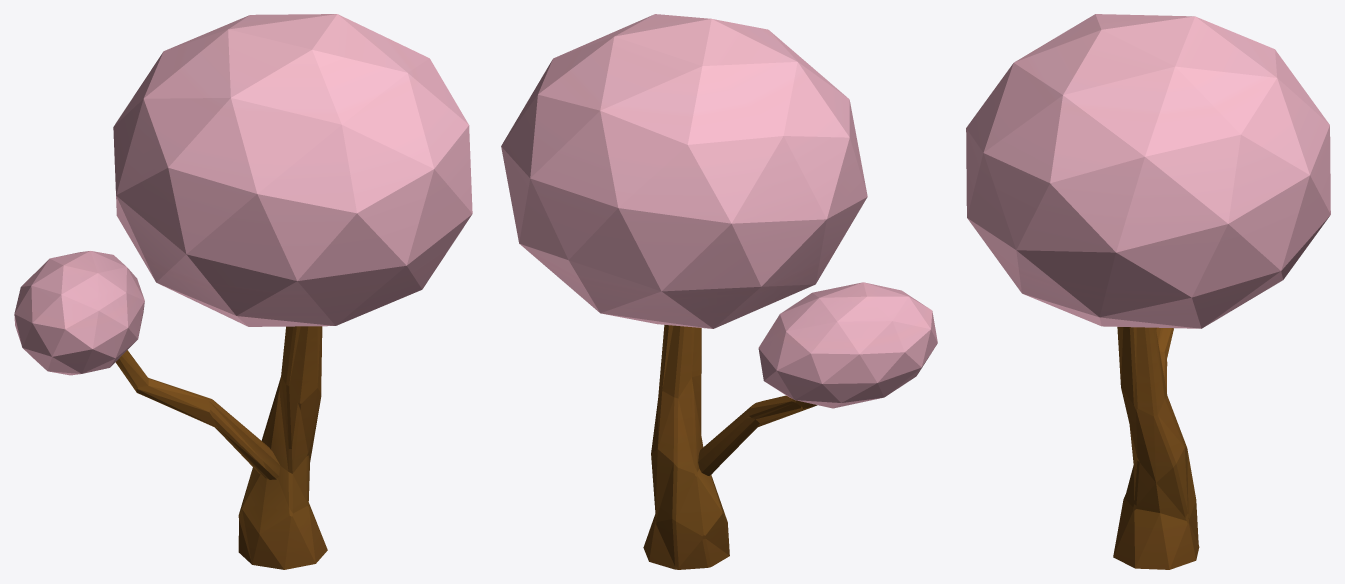
Rendered from tree_round.glb.
The picture shows the model from 3 angles, left to right: view 1: azimuth 30°, elevation 25°; view 2: azimuth 150°, elevation 25°; view 3: azimuth 270°, elevation 25°; orthographic projection.
Parts seen in each view (by area): view 1: Poplar Tree_1_AA; view 2: Poplar Tree_1_AA; view 3: Poplar Tree_1_AA.
Part boxes in pixels (bbox=[...]): Poplar Tree_1_AA: bbox=[14, 14, 472, 569]; Poplar Tree_1_AA: bbox=[501, 14, 937, 569]; Poplar Tree_1_AA: bbox=[966, 14, 1330, 569].
Size of the model in its own units: 2.96 by 3.53 by 2.23.
Materials: 1 (1 with a texture image).
